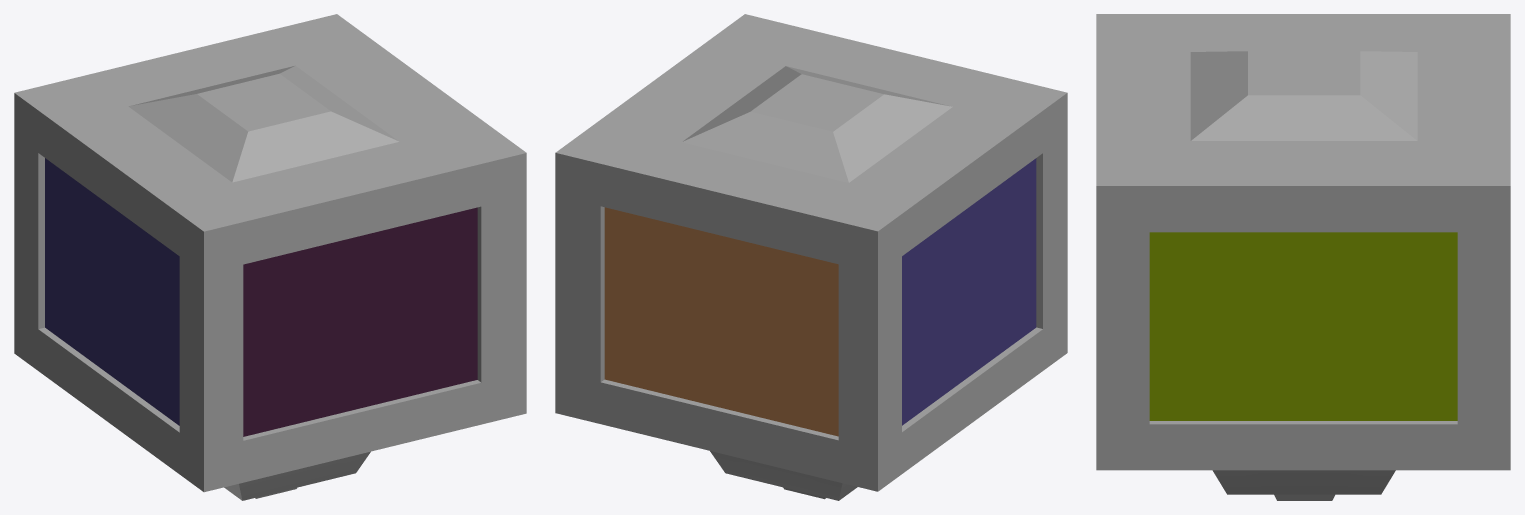
The model's file is golf_cam.fbx.
The picture shows the model from 3 angles, left to right: view 1: azimuth 30°, elevation 25°; view 2: azimuth 150°, elevation 25°; view 3: azimuth 270°, elevation 25°; orthographic projection. The views are drawn at different scales.
Visible parts, largest first — view 1: pCube1; view 2: pCube1; view 3: pCube1.
Boxes of the visible parts, bbox=[...] form: pCube1: bbox=[14, 14, 526, 500]; pCube1: bbox=[555, 14, 1067, 500]; pCube1: bbox=[1096, 14, 1510, 500].
Size of the model in its own units: 2.41 by 2.73 by 2.45.
